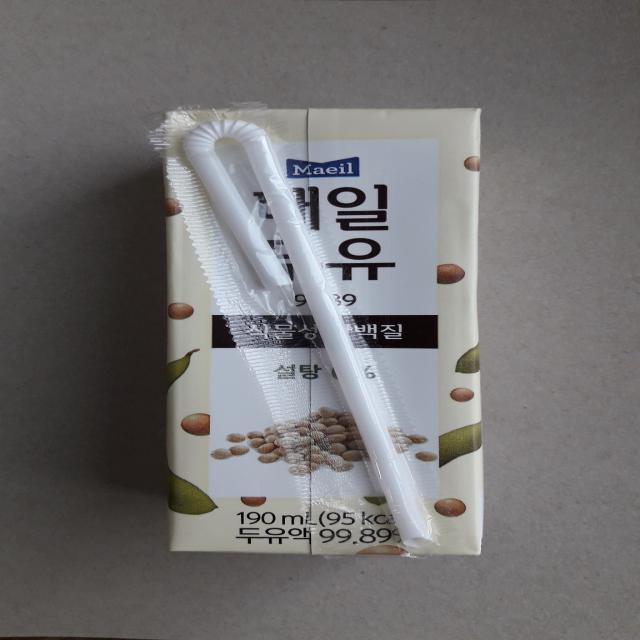Tetra: (131, 96, 530, 584)
